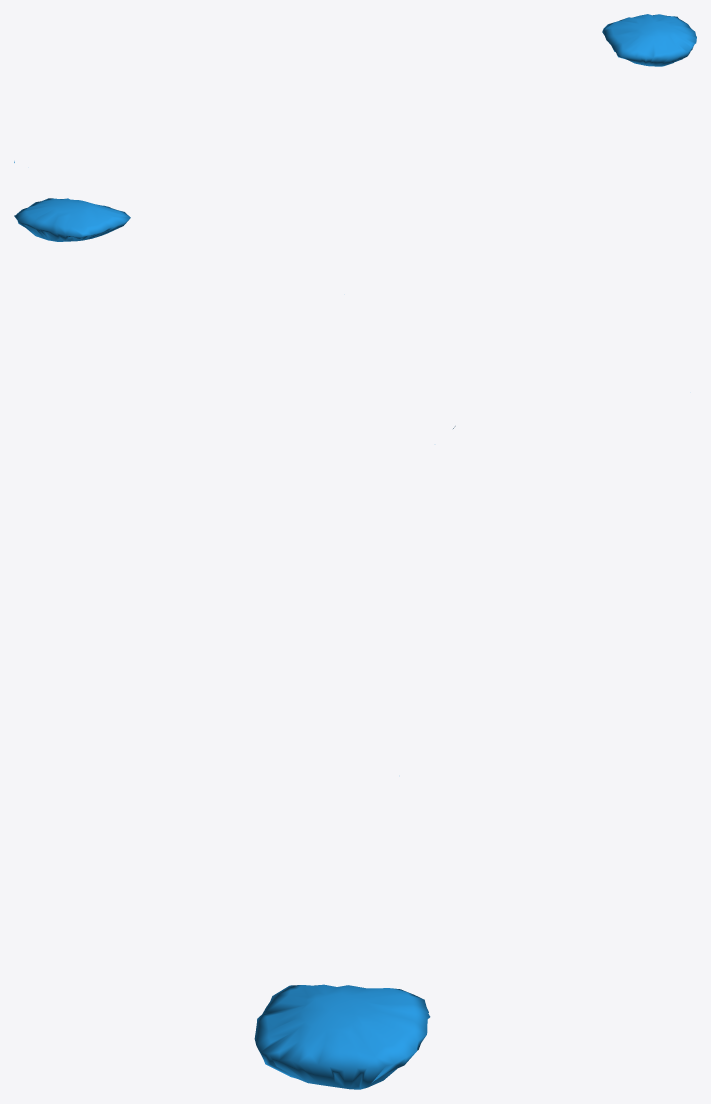
File: SM_flat_mushroom_05.fbx
3 renders of one model, top to bottom at view 1: azimuth 30°, elevation 25°; view 2: azimuth 150°, elevation 25°; view 3: azimuth 270°, elevation 25°, orthographic. The views are drawn at different scales.
Visible parts, largest first — view 1: flat_mushroom_05; view 2: flat_mushroom_05; view 3: flat_mushroom_05.
Boxes of the visible parts, x1,y1,x2,y2 form: flat_mushroom_05: [14, 14, 696, 162]; flat_mushroom_05: [14, 198, 130, 241]; flat_mushroom_05: [254, 426, 455, 1089].
Bounding box in the file's own units: 3027 × 138 × 407.
